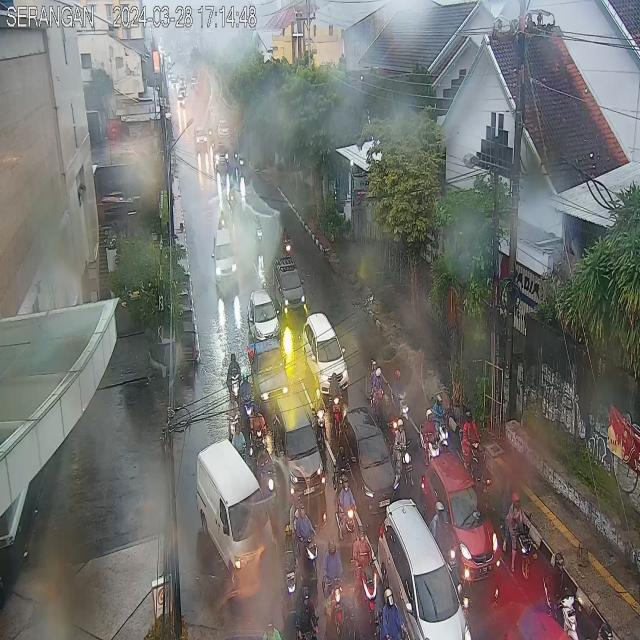car: (377, 497, 472, 640), (196, 436, 276, 592), (419, 450, 500, 583), (342, 405, 400, 516), (272, 393, 326, 501), (302, 312, 348, 392), (247, 289, 282, 351), (273, 256, 306, 316), (213, 230, 238, 287)
motorcycle: (542, 551, 579, 640), (500, 490, 533, 580), (288, 492, 318, 586), (428, 502, 460, 584), (352, 526, 378, 626), (322, 540, 345, 639), (256, 438, 278, 518), (376, 586, 408, 640), (336, 475, 359, 548), (392, 418, 414, 492), (457, 411, 484, 471), (281, 524, 299, 612), (419, 409, 440, 464), (297, 586, 318, 640), (432, 394, 450, 452), (390, 370, 410, 422), (328, 372, 344, 437), (311, 388, 327, 452), (249, 404, 268, 454), (332, 445, 350, 493), (239, 372, 254, 424), (226, 352, 242, 400), (226, 393, 241, 438), (280, 224, 292, 257)
truck: (248, 336, 288, 414)
